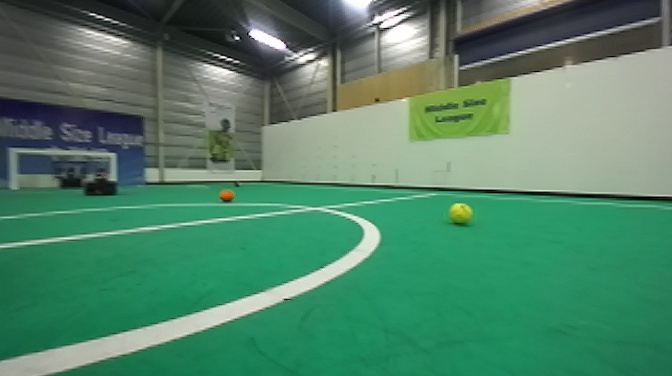ball: (450, 200, 474, 227), (218, 188, 236, 203)
goal: (6, 144, 120, 191)
robot: (81, 158, 124, 198), (51, 159, 89, 192)
